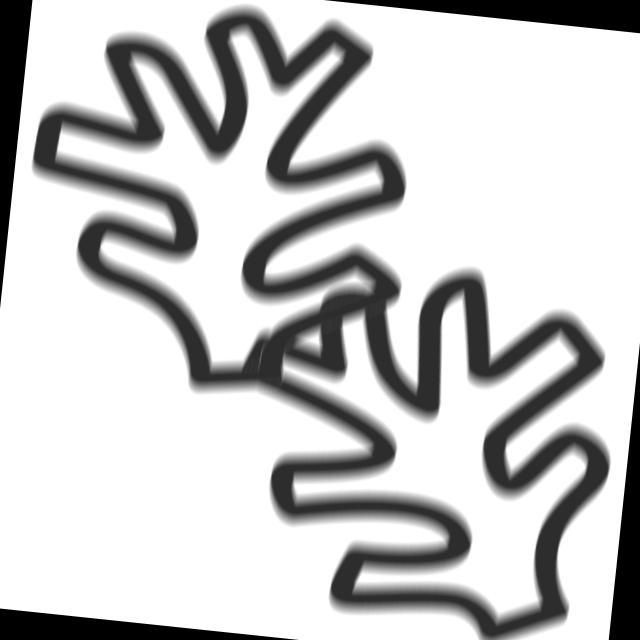coral: (1, 1, 640, 640), (3, 1, 438, 422), (237, 234, 640, 640)
